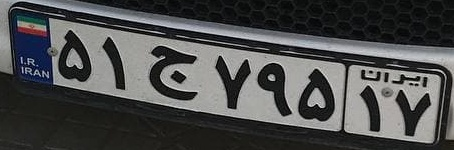character: (141, 38, 203, 102), (209, 48, 253, 114), (254, 57, 297, 119), (297, 63, 338, 127), (53, 24, 95, 86), (94, 29, 130, 94), (393, 88, 434, 139), (355, 81, 385, 134)
